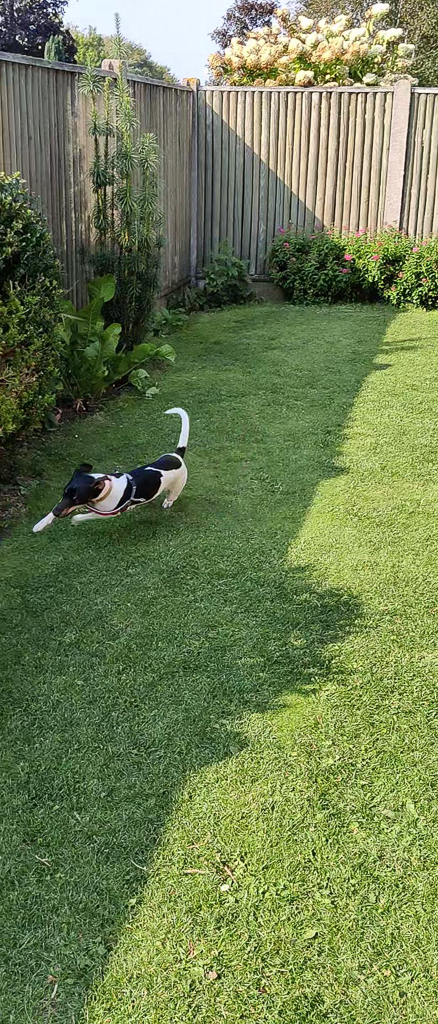Dog: (15, 394, 210, 546)
